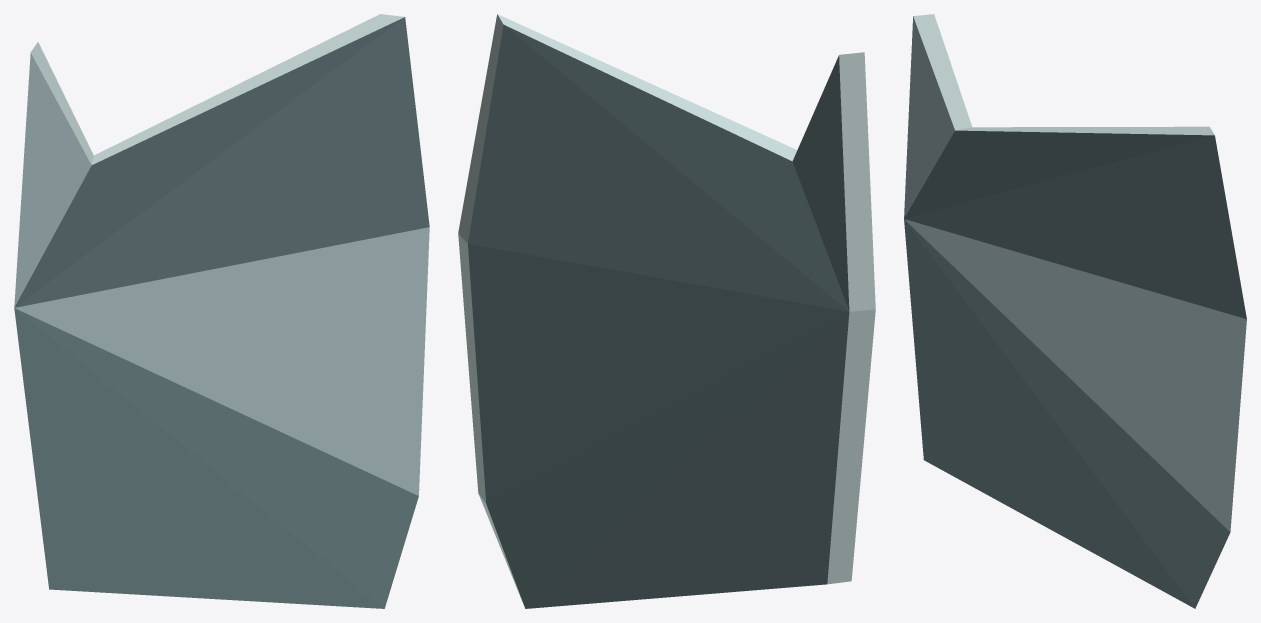
The model's file is vodka_bottle_piece_front.glb.
3 renders of one model, left to right at view 1: azimuth 30°, elevation 25°; view 2: azimuth 150°, elevation 25°; view 3: azimuth 330°, elevation 25°, orthographic. The views are drawn at different scales.
Visible parts, largest first — view 1: Curved solid jagged glass.003; view 2: Curved solid jagged glass.003; view 3: Curved solid jagged glass.003.
Boxes of the visible parts, x1,y1,x2,y2 form: Curved solid jagged glass.003: [14, 14, 429, 608]; Curved solid jagged glass.003: [458, 14, 875, 608]; Curved solid jagged glass.003: [904, 14, 1246, 608].
Size of the model in its own units: 0.0648 by 0.0946 by 0.00501.
